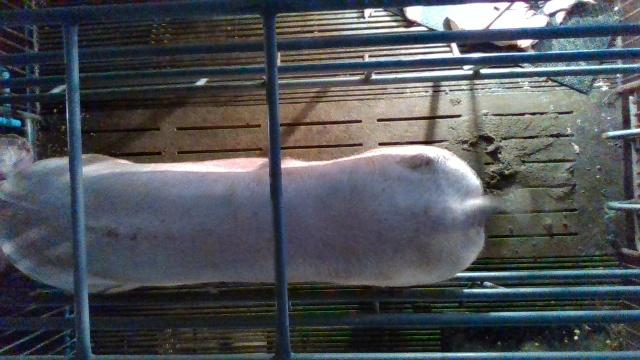piglet: (406, 1, 550, 49)
sow-stand-feed: (1, 130, 528, 296)
